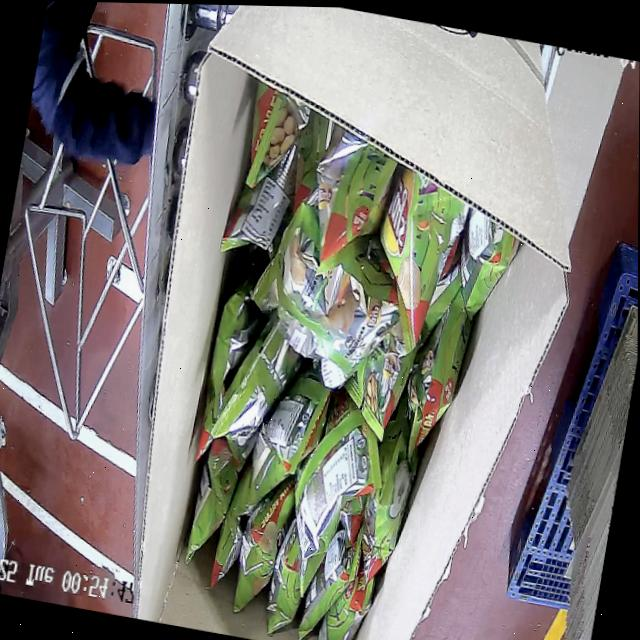YOGURT_HERB: (162, 96, 532, 640)
